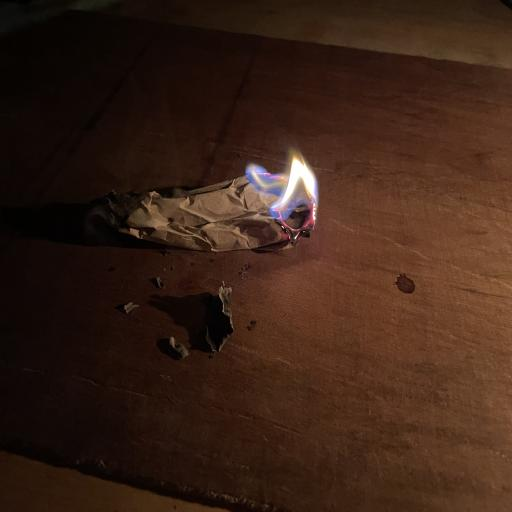fire: (244, 141, 332, 248)
